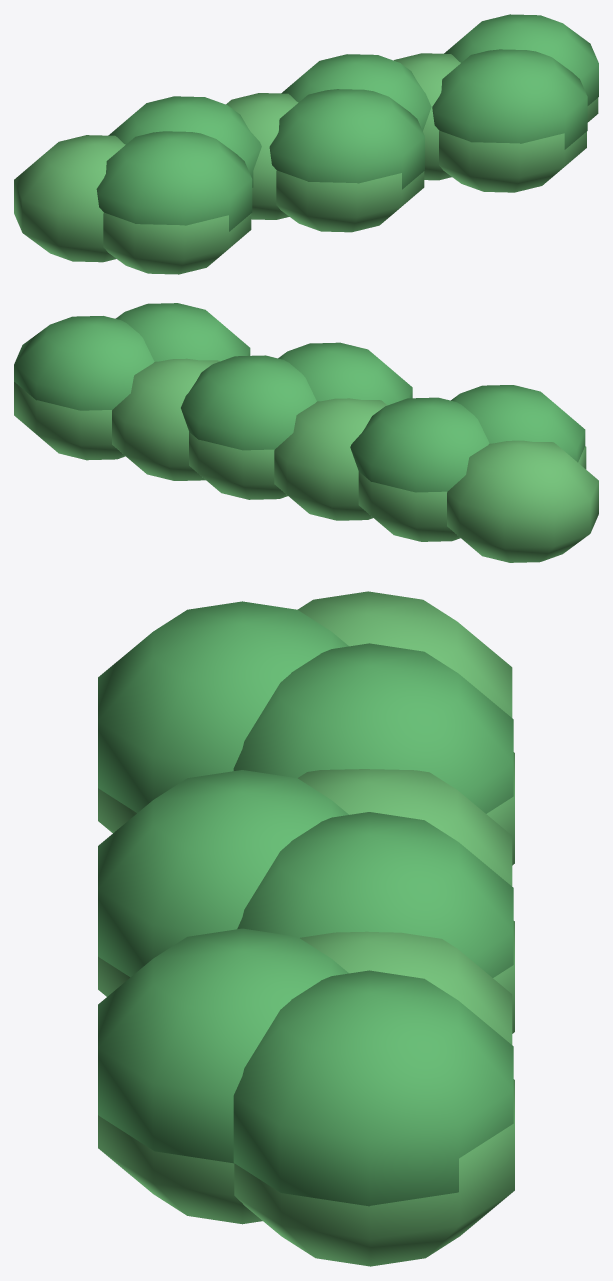
Rendered from bushes.glb.
The picture shows the model from 3 angles, top to bottom: view 1: azimuth 30°, elevation 25°; view 2: azimuth 150°, elevation 25°; view 3: azimuth 270°, elevation 25°; orthographic projection. The views are drawn at different scales.
Visible parts, largest first — view 1: bushes; view 2: bushes; view 3: bushes.
Boxes of the visible parts, box(x1,y1,x2,y2) form: bushes: box(14, 14, 598, 274); bushes: box(14, 303, 598, 562); bushes: box(98, 591, 514, 1266).
Bounding box in the file's own units: 2.8 × 0.59 × 0.8885.
